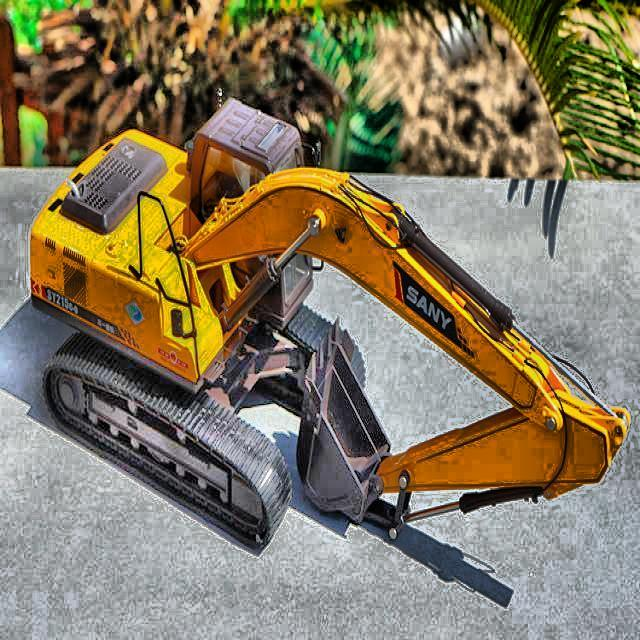excavator: (26, 88, 633, 560)
